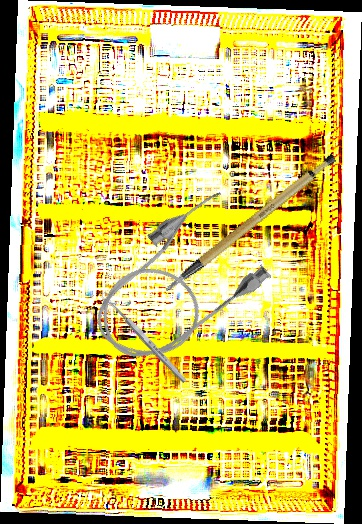Cannula: (71, 182, 282, 383)
Scalpel Handle: (146, 150, 352, 294)
Surgical Spoon: (99, 290, 189, 385)
